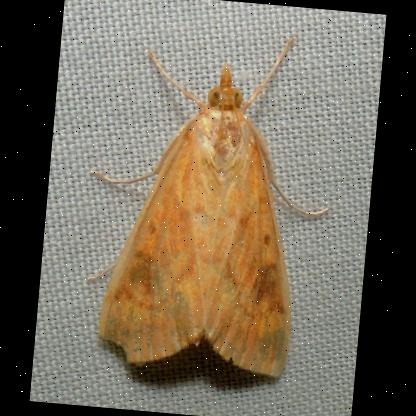Asian Corn Borer Moth: (72, 17, 347, 386)
